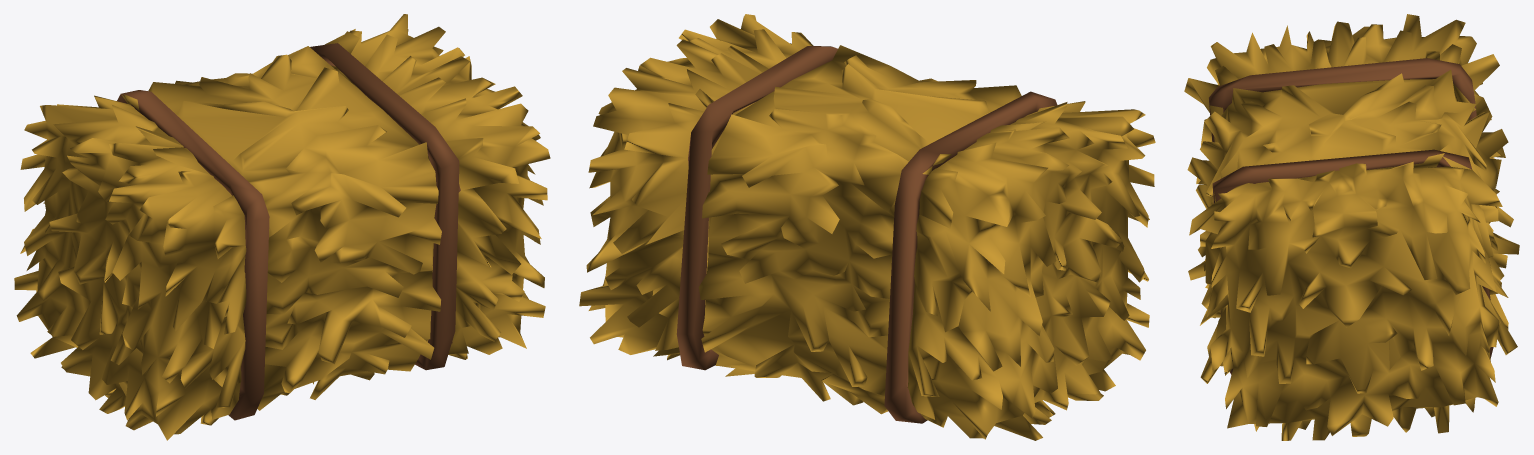
The model's file is Hay_Bale.glb.
The picture shows the model from 3 angles, left to right: view 1: azimuth 30°, elevation 25°; view 2: azimuth 150°, elevation 25°; view 3: azimuth 270°, elevation 25°; orthographic projection. The views are drawn at different scales.
Parts seen in each view (by area): view 1: tripo_node_e327217b-dc18-4a86-b42f-b1132d8b1021; view 2: tripo_node_e327217b-dc18-4a86-b42f-b1132d8b1021; view 3: tripo_node_e327217b-dc18-4a86-b42f-b1132d8b1021.
Part boxes in pixels (x1,y1,x2,y2): tripo_node_e327217b-dc18-4a86-b42f-b1132d8b1021: [14, 14, 550, 440]; tripo_node_e327217b-dc18-4a86-b42f-b1132d8b1021: [579, 14, 1155, 440]; tripo_node_e327217b-dc18-4a86-b42f-b1132d8b1021: [1184, 14, 1519, 440].
Bounding box in the file's own units: 1.6 × 1 × 1.14.
